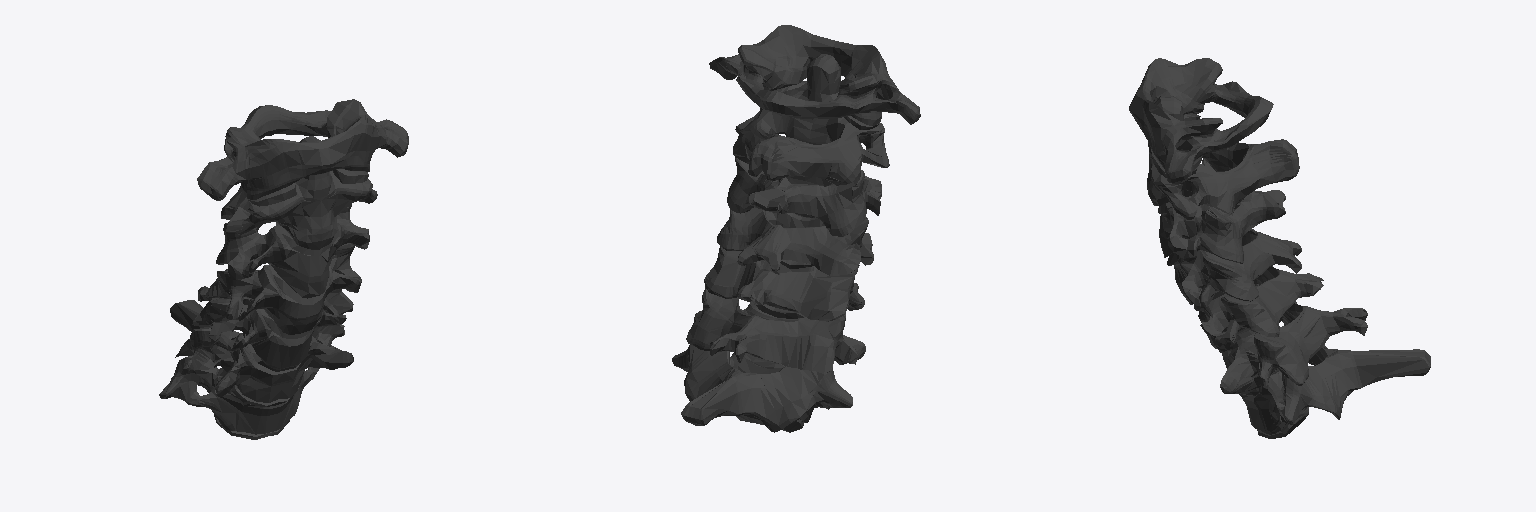
File: Neck.obj
3 views of the same model, side by side, from view 1: azimuth 30°, elevation 25°; view 2: azimuth 150°, elevation 25°; view 3: azimuth 270°, elevation 25° (orthographic).
Bounding box in the file's own units: 7.97 × 12.74 × 10.04.